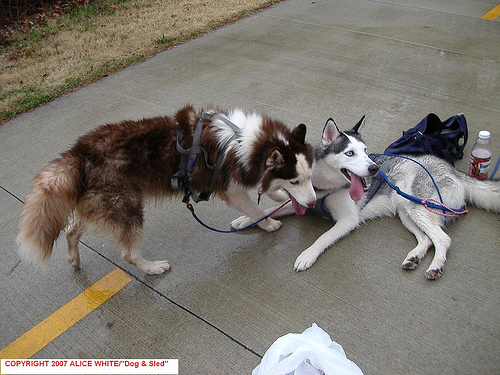dog: (17, 104, 318, 277), (227, 113, 499, 282)
